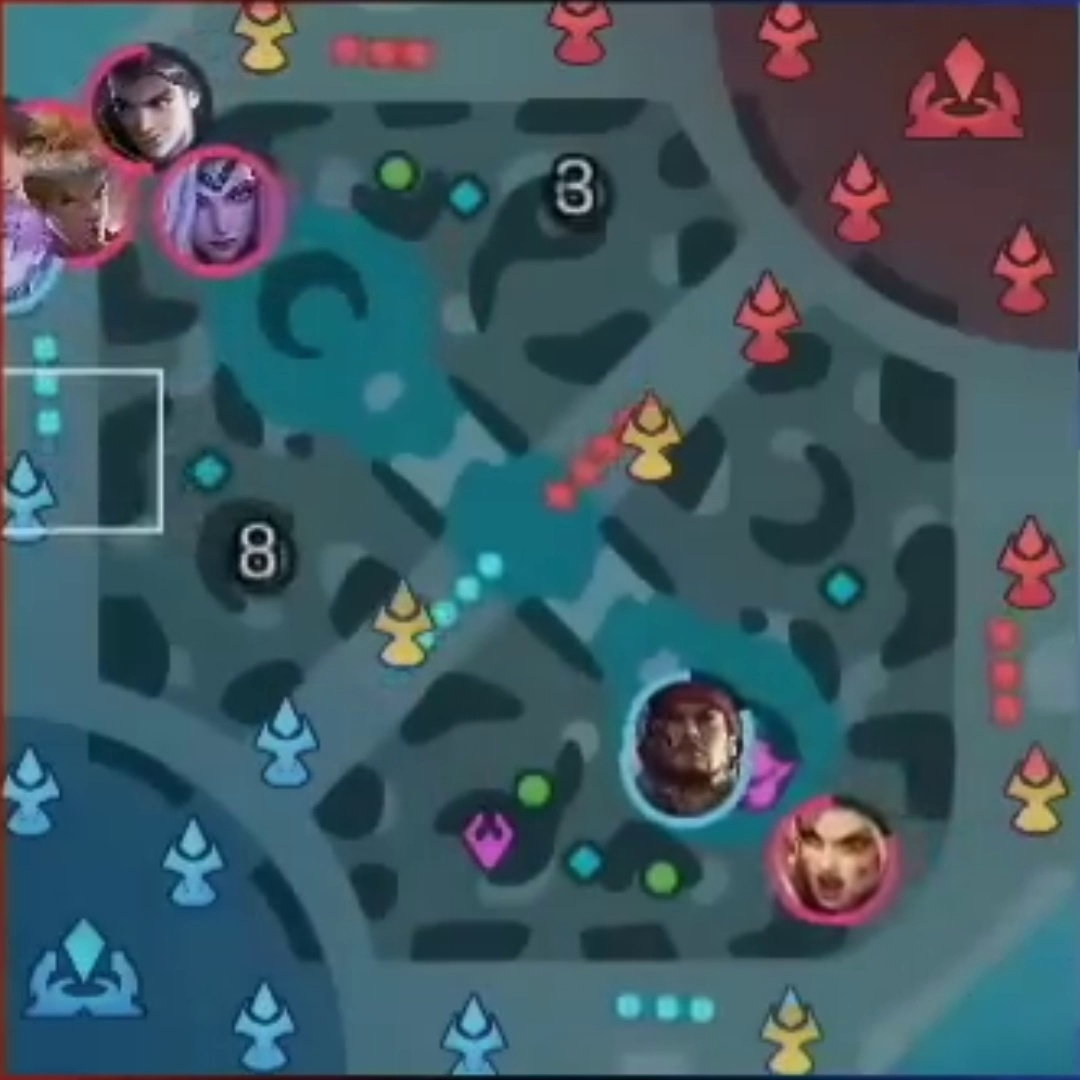Chou: (39, 158, 121, 256)
Claude: (111, 56, 197, 151)
Lapu-Lapu: (650, 684, 737, 780)
Masha: (797, 809, 880, 913)
Valentina: (178, 159, 264, 257)
